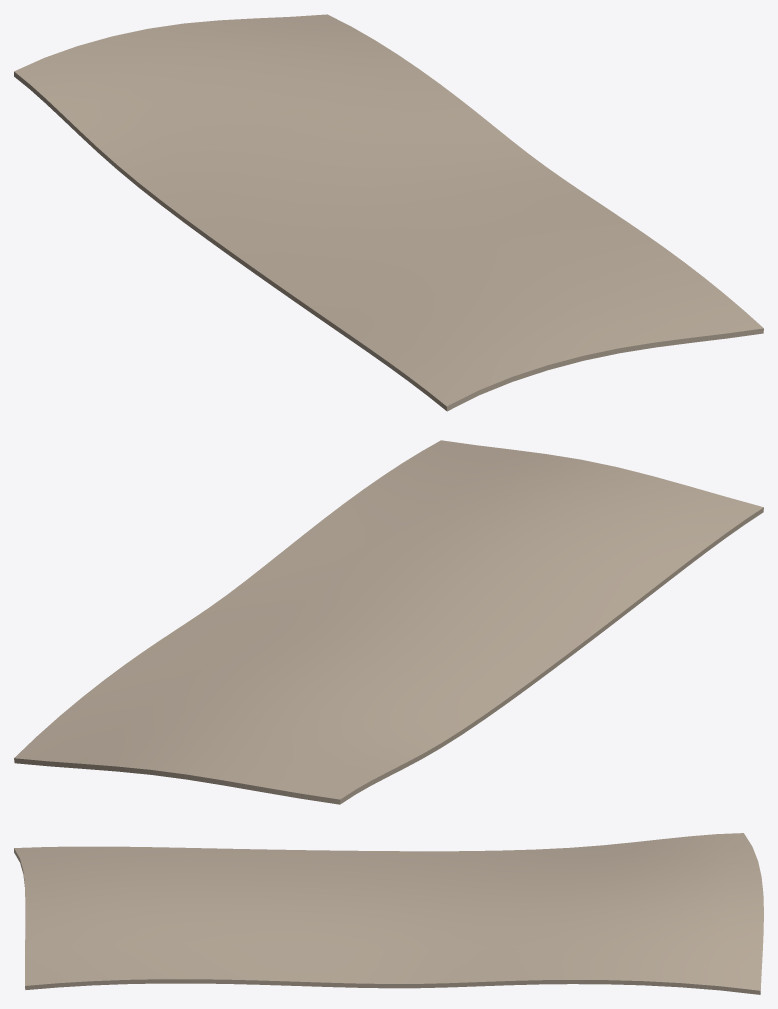
File: Tapis_5.fbx
The picture shows the model from 3 angles, top to bottom: view 1: azimuth 30°, elevation 25°; view 2: azimuth 150°, elevation 25°; view 3: azimuth 270°, elevation 25°; orthographic projection. The views are drawn at different scales.
Visible parts, largest first — view 1: nurbsToPoly1; view 2: nurbsToPoly1; view 3: nurbsToPoly1.
Boxes of the visible parts, <box> form: nurbsToPoly1: <box>14,14,763,411</box>; nurbsToPoly1: <box>14,440,763,804</box>; nurbsToPoly1: <box>14,833,763,994</box>.
Bounding box in the file's own units: 72.41 × 7.72 × 172.
